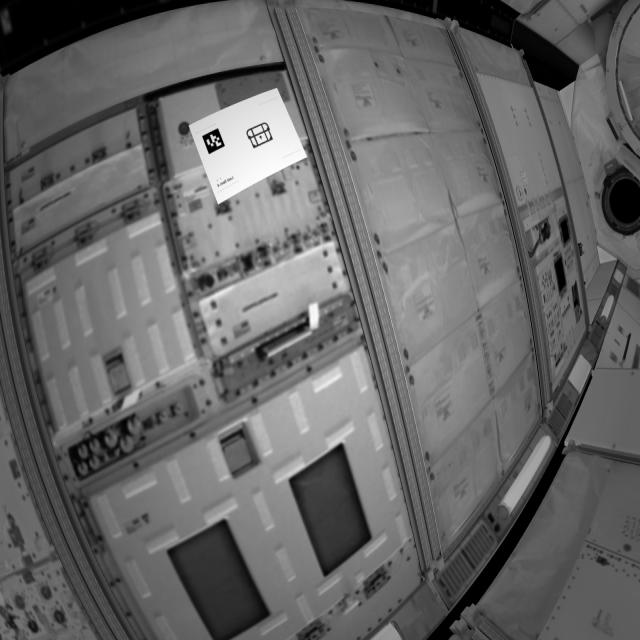treasure_box: (247, 121, 276, 154)
